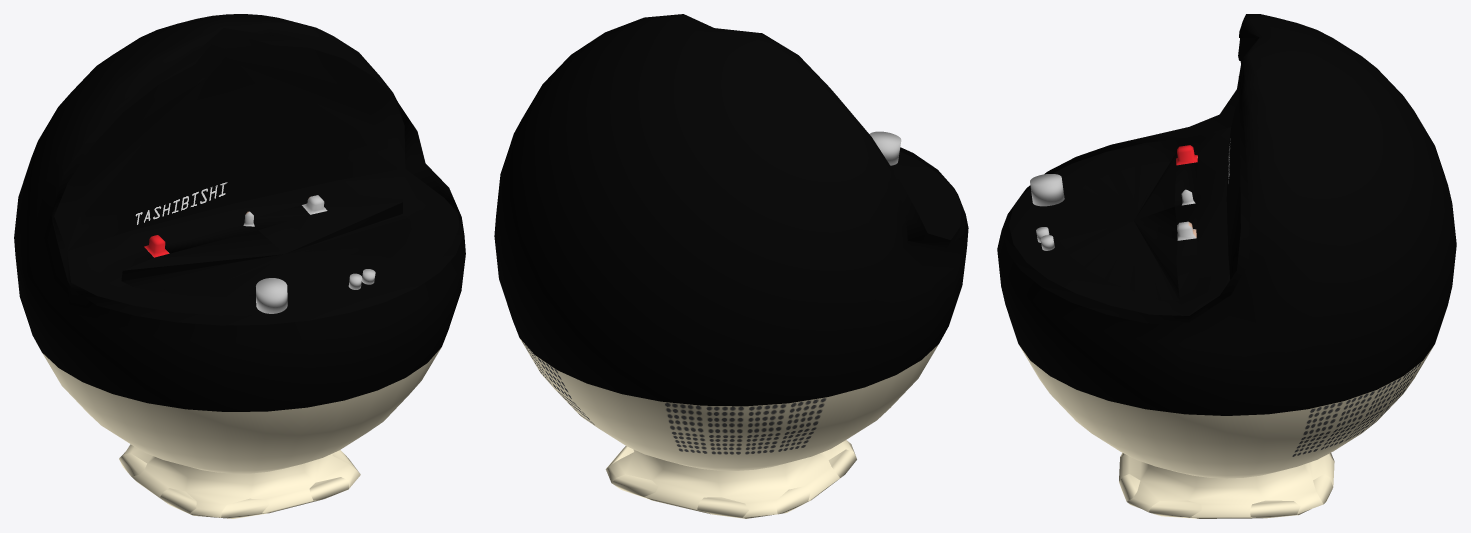
File: spaceradio.fbx
The picture shows the model from 3 angles, left to right: view 1: azimuth 30°, elevation 25°; view 2: azimuth 150°, elevation 25°; view 3: azimuth 270°, elevation 25°; orthographic projection. The views are drawn at different scales.
Parts seen in each view (by area): view 1: Cube; view 2: Cube; view 3: Cube.
Part boxes in pixels (left/top/right/bottom): Cube: left=14, top=14, right=465, bottom=518; Cube: left=494, top=14, right=968, bottom=518; Cube: left=997, top=14, right=1456, bottom=518.
Size of the model in its own units: 186 by 198 by 189.
